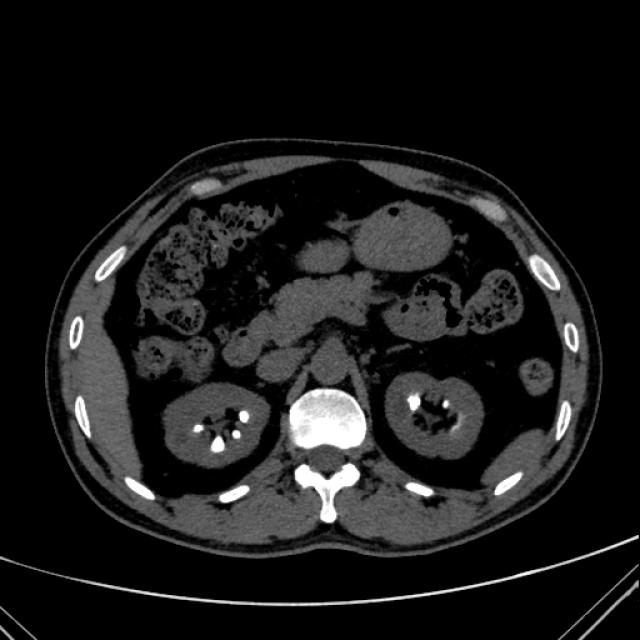kidneystone: (406, 395, 422, 412), (210, 435, 225, 453), (239, 410, 250, 422), (194, 425, 204, 433), (234, 430, 241, 438), (442, 400, 449, 408)
